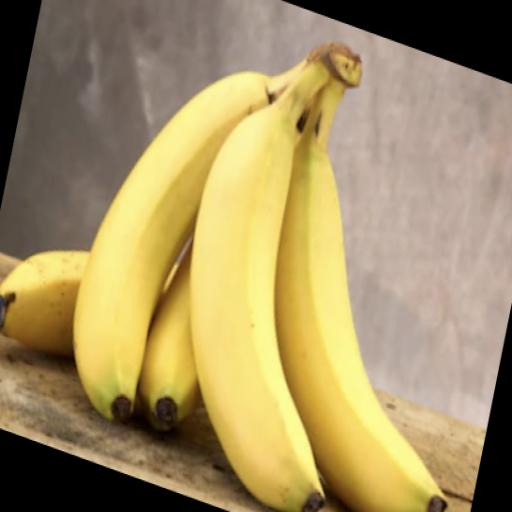banana-ripe: (0, 0, 467, 512)
